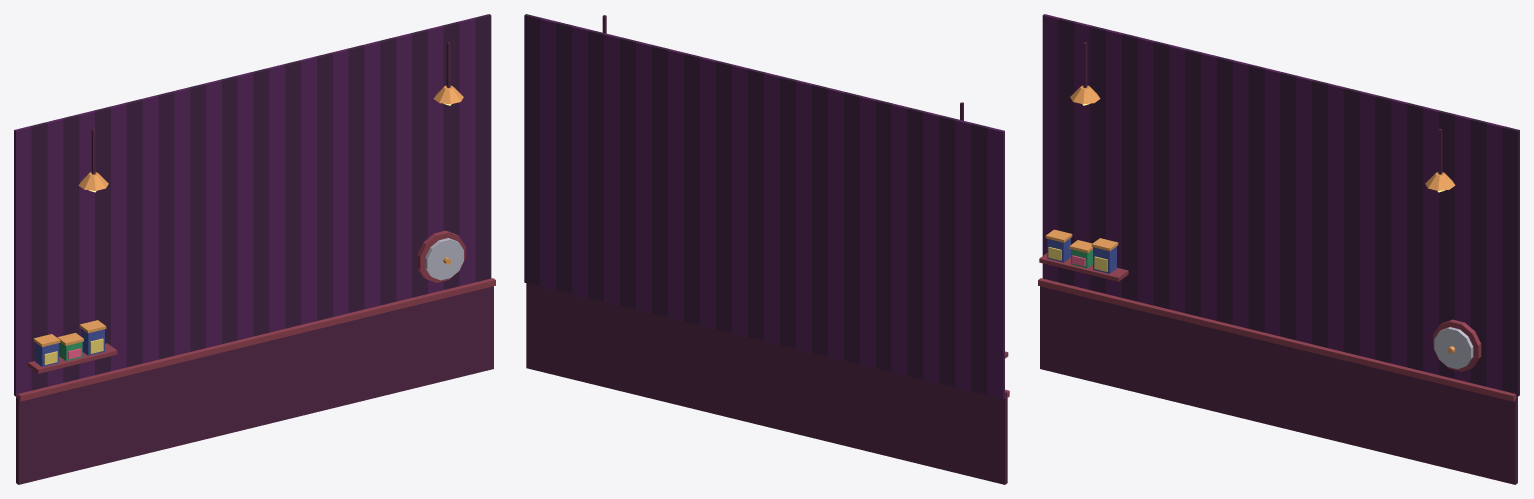
File: wall.glb
3 renders of one model, left to right at view 1: azimuth 30°, elevation 25°; view 2: azimuth 150°, elevation 25°; view 3: azimuth 330°, elevation 25°, orthographic.
Visible parts, largest first — view 1: Paper, Wainscot, Rail, ClockFace, ClockRim, Shelf; view 2: Paper, Wainscot; view 3: Paper, Wainscot, Rail, ClockFace, ClockRim, Shelf.
Part boxes in pixels (x1,y1,x2,y2): Paper: (14,14,491,396); Wainscot: (16,286,493,484); Rail: (17,278,495,401); ClockFace: (425,238,463,280); ClockRim: (417,230,465,282); Shelf: (28,343,117,373); Paper: (524,14,1004,399); Wainscot: (526,283,1007,484); Paper: (1042,14,1519,396); Wainscot: (1040,286,1517,484); Rail: (1038,278,1516,401); ClockFace: (1434,327,1473,369); ClockRim: (1433,319,1481,371); Shelf: (1039,253,1128,281).
Size of the model in its own units: 15 by 10.6 by 1.45.
